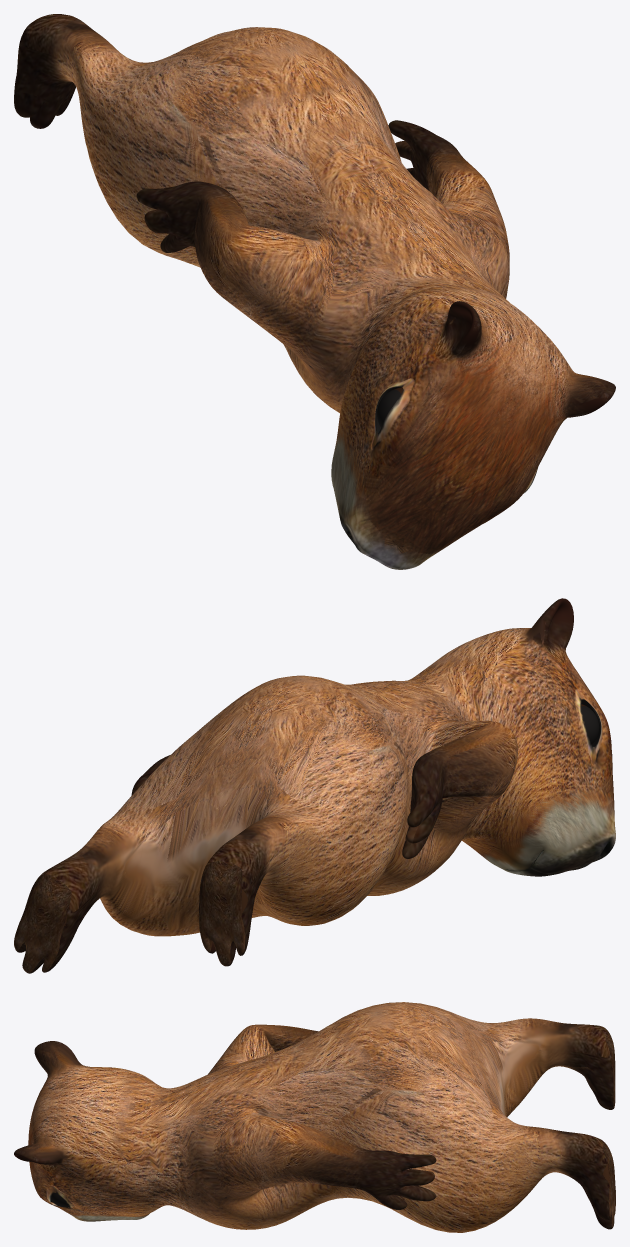
The model's file is Carpincho.obj.
3 renders of one model, top to bottom at view 1: azimuth 30°, elevation 25°; view 2: azimuth 150°, elevation 25°; view 3: azimuth 270°, elevation 25°, orthographic. The views are drawn at different scales.
Visible parts, largest first — view 1: Body_Cube.001; view 2: Body_Cube.001; view 3: Body_Cube.001.
Part boxes in pixels (left/top/right/bottom): Body_Cube.001: left=14, top=14, right=615, bottom=569; Body_Cube.001: left=14, top=598, right=615, bottom=973; Body_Cube.001: left=14, top=1002, right=615, bottom=1232.
Bounding box in the file's own units: 1.43 × 1.45 × 3.28.
